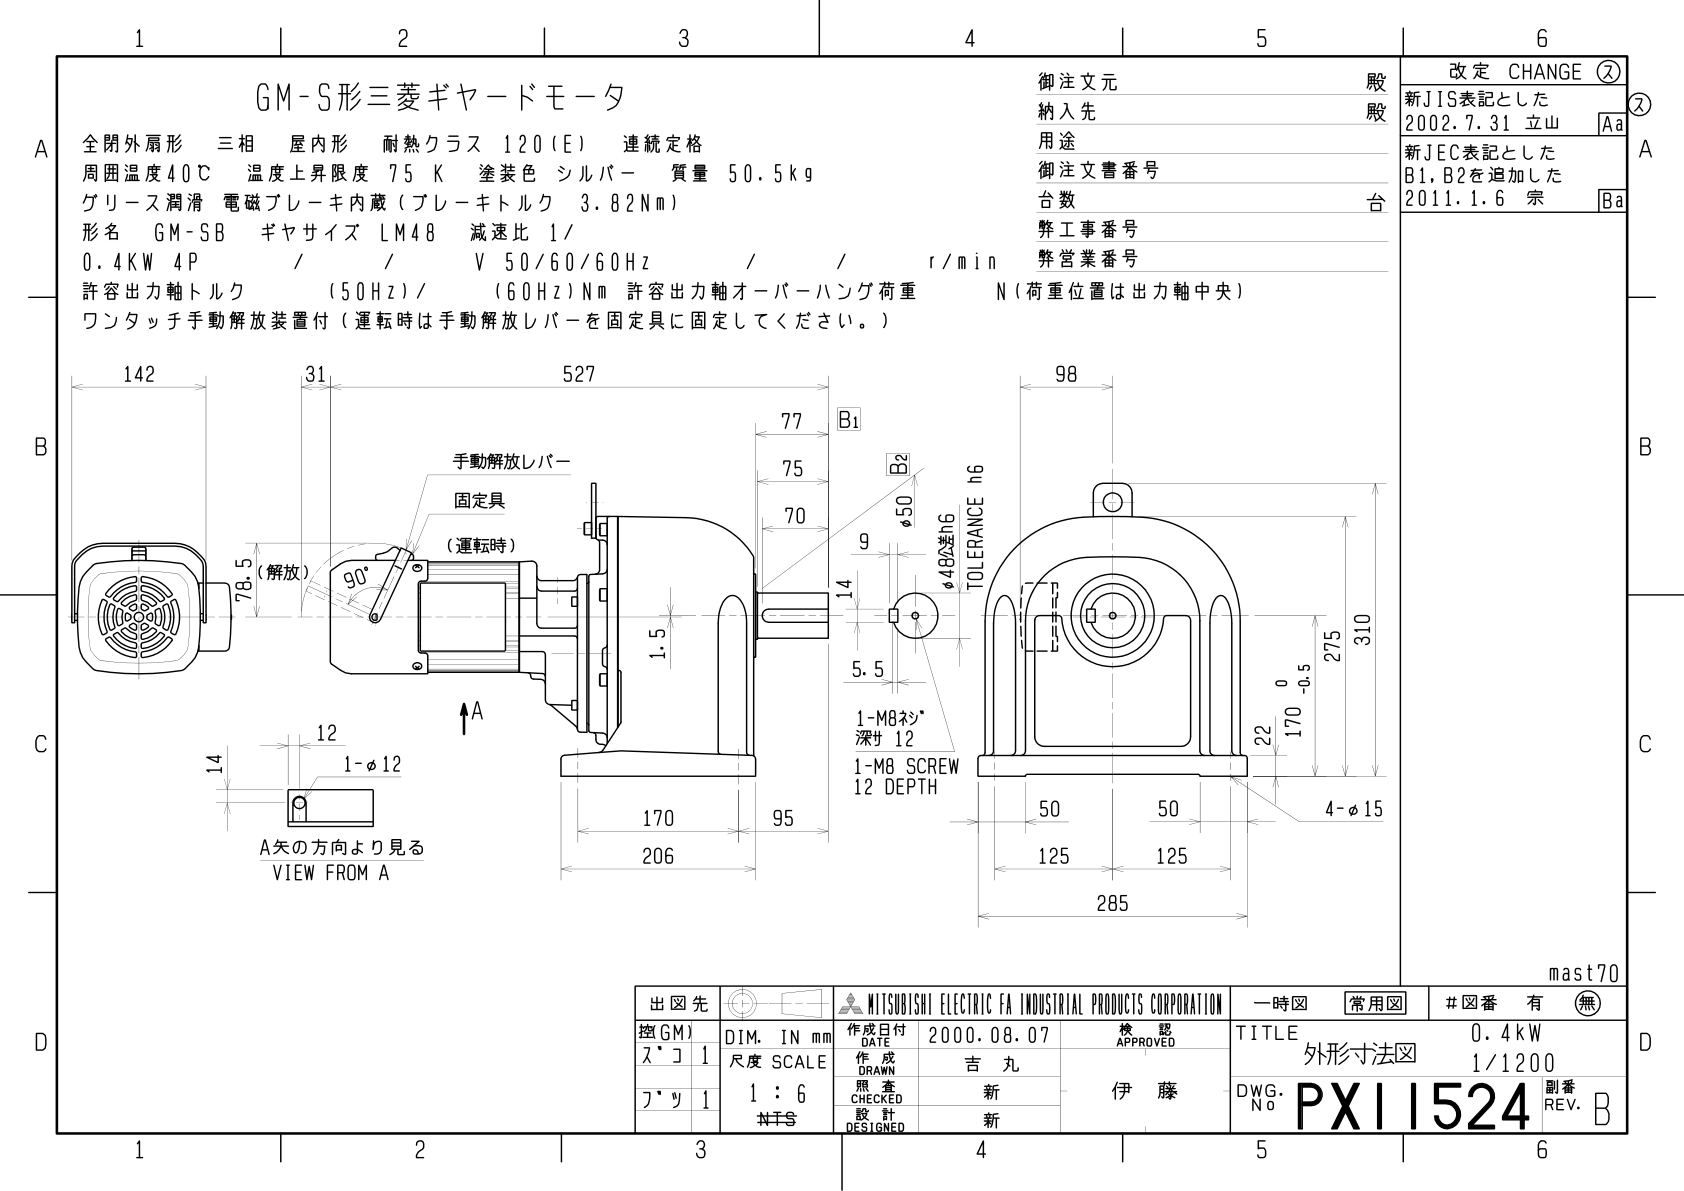GM_S_手動ブレーキ＿三相_脚: (4, 3, 1678, 1191)
